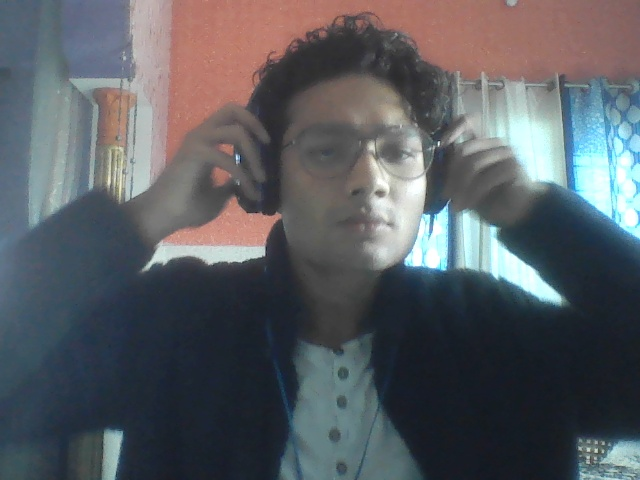real: (256, 26, 438, 284)
